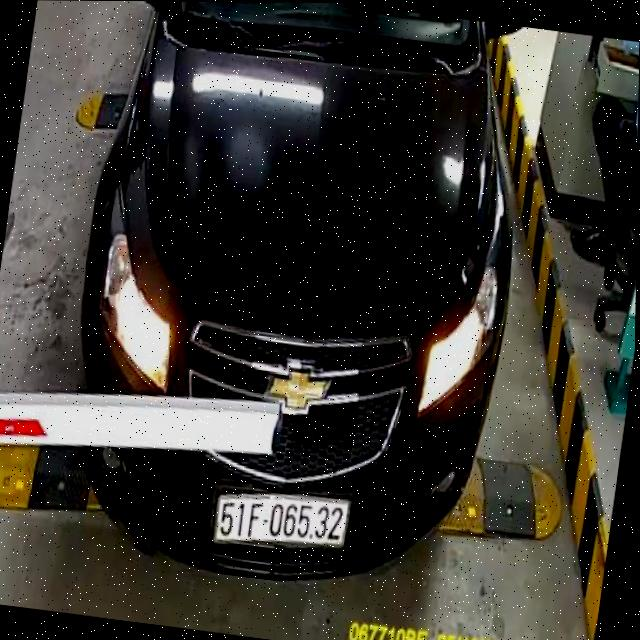car: (36, 0, 554, 617)
plate: (208, 480, 358, 564)
